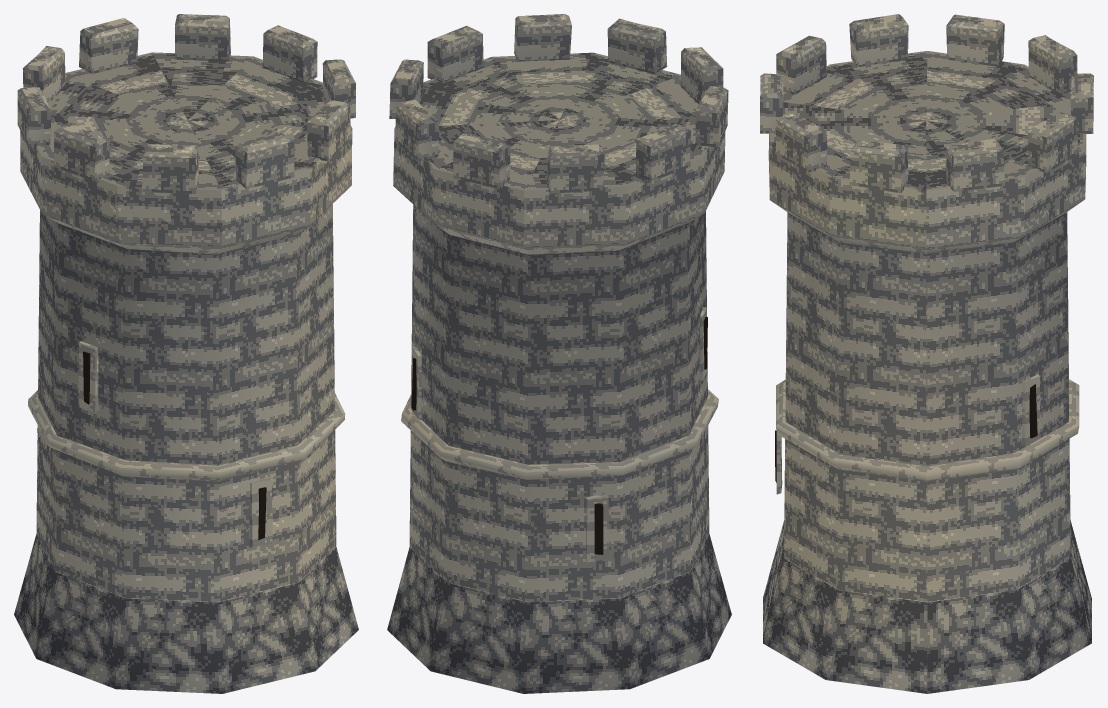
The model's file is cst.tower_round__crenellated.glb.
3 renders of one model, left to right at view 1: azimuth 30°, elevation 25°; view 2: azimuth 150°, elevation 25°; view 3: azimuth 270°, elevation 25°, orthographic.
Visible parts, largest first — view 1: kit_drum, kit_top, kit_detail; view 2: kit_drum, kit_top, kit_detail; view 3: kit_drum, kit_top, kit_detail.
Part boxes in pixels (x1,y1,x2,y2): kit_drum: [14, 204, 358, 693]; kit_top: [17, 14, 355, 254]; kit_detail: [28, 341, 345, 546]; kit_drum: [387, 205, 731, 693]; kit_top: [389, 14, 728, 254]; kit_detail: [401, 307, 718, 562]; kit_drum: [763, 212, 1091, 693]; kit_top: [760, 14, 1093, 253]; kit_detail: [775, 374, 1079, 494].
Bounding box in the file's own units: 6.9 × 11.85 × 6.66.
5 materials, 5 textured.
